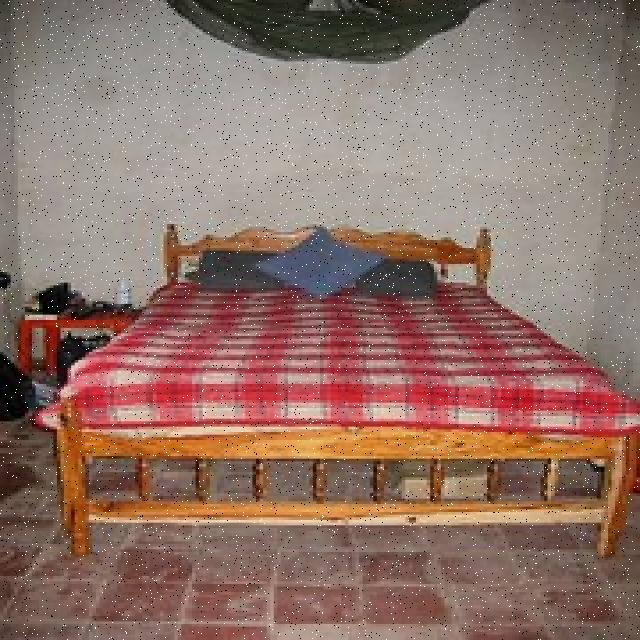bed: (58, 217, 640, 560)
